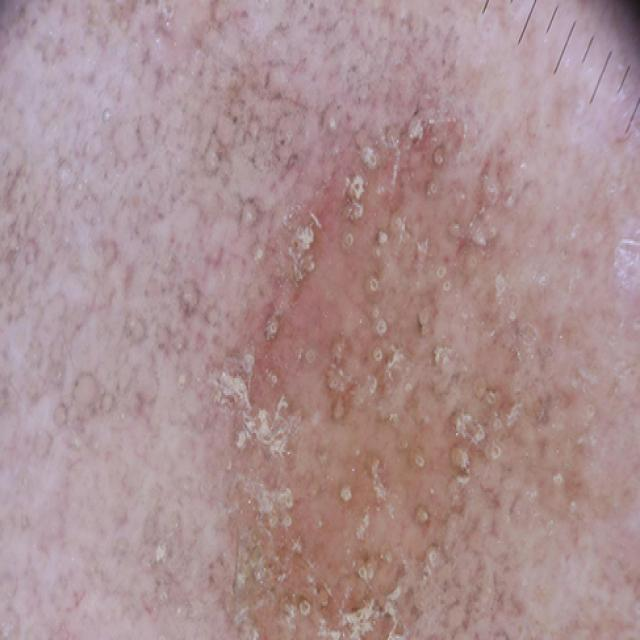Keratosis: (192, 167, 598, 640)
